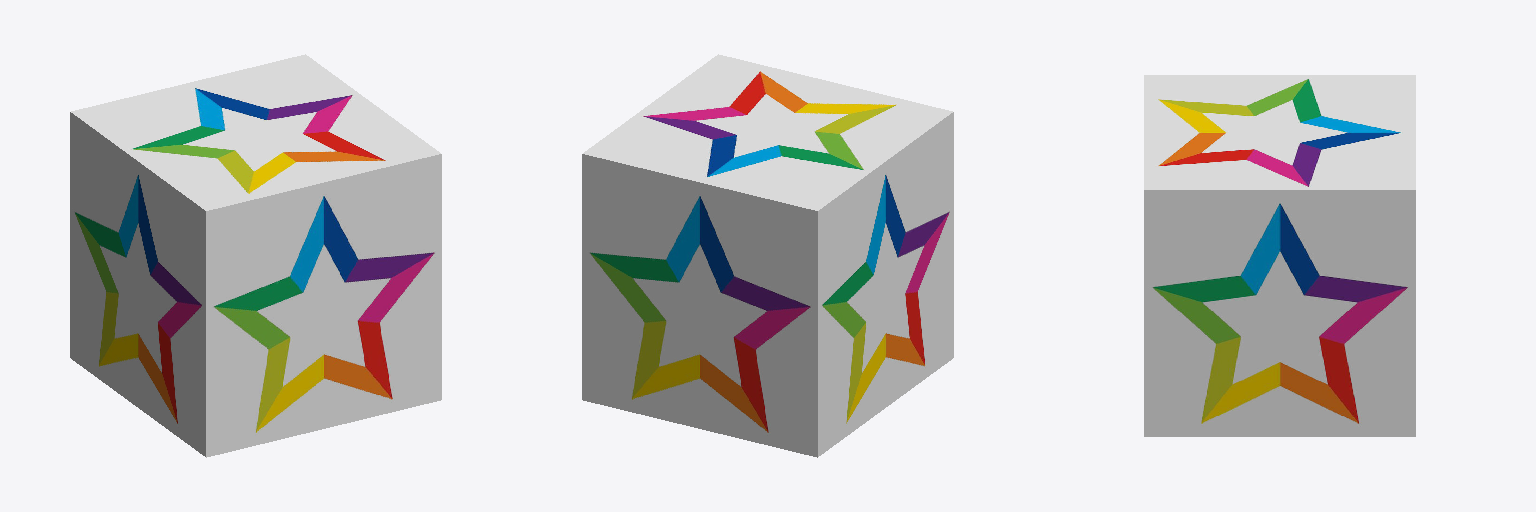
3 renders of one model, left to right at view 1: azimuth 30°, elevation 25°; view 2: azimuth 150°, elevation 25°; view 3: azimuth 270°, elevation 25°, orthographic.
Parts seen in each view (by area): view 1: Cube; view 2: Cube; view 3: Cube.
Part boxes in pixels (bbox=[...]): Cube: bbox=[70, 54, 441, 457]; Cube: bbox=[582, 54, 953, 457]; Cube: bbox=[1144, 75, 1415, 436].
Bounding box in the file's own units: 2 × 2 × 2.
1 materials, 1 textured.